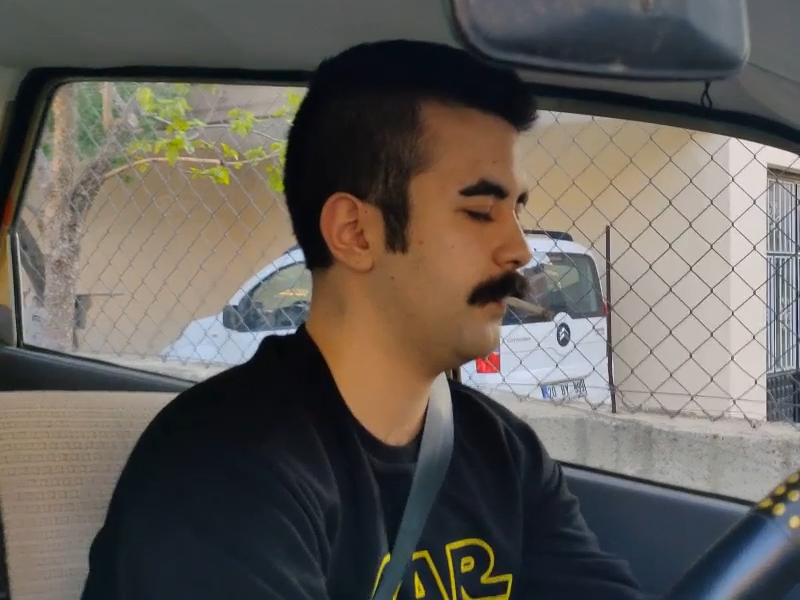sigara: (500, 292, 558, 324)
